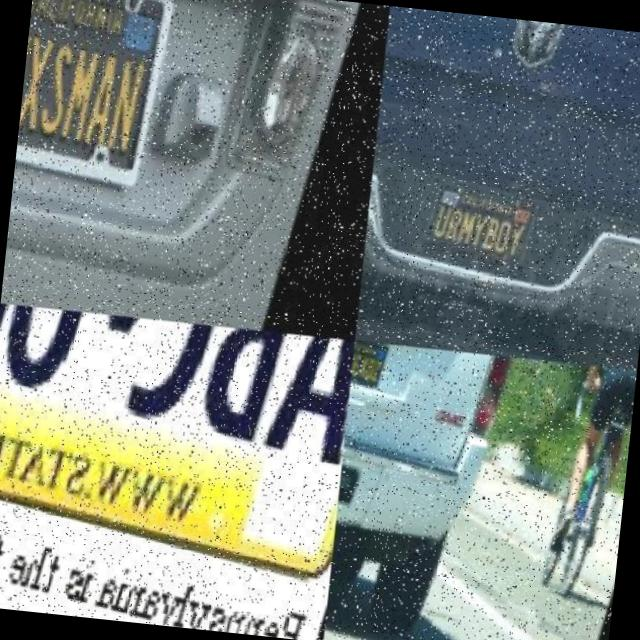LicensePlate: (0, 302, 354, 556), (11, 0, 192, 215), (414, 179, 535, 275), (348, 340, 388, 397)
